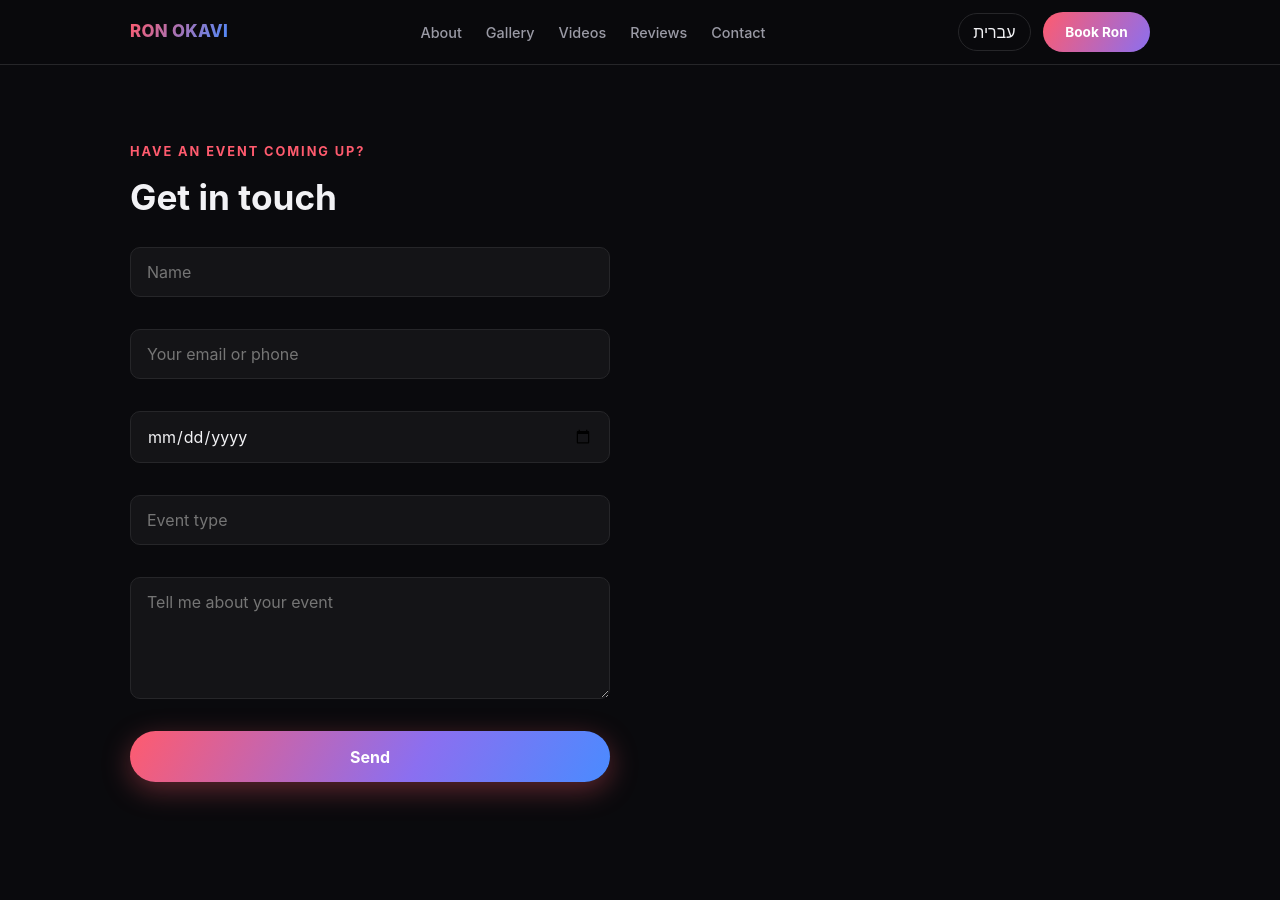
Test: Contact › rejects an invalid email or phone contact
The width and height of the screenshot is (1280, 900).
Step 1. Type "Ron" into the field with placeholder "Name" → point(370, 272), box top-left (130, 247), bottom-right (610, 297)
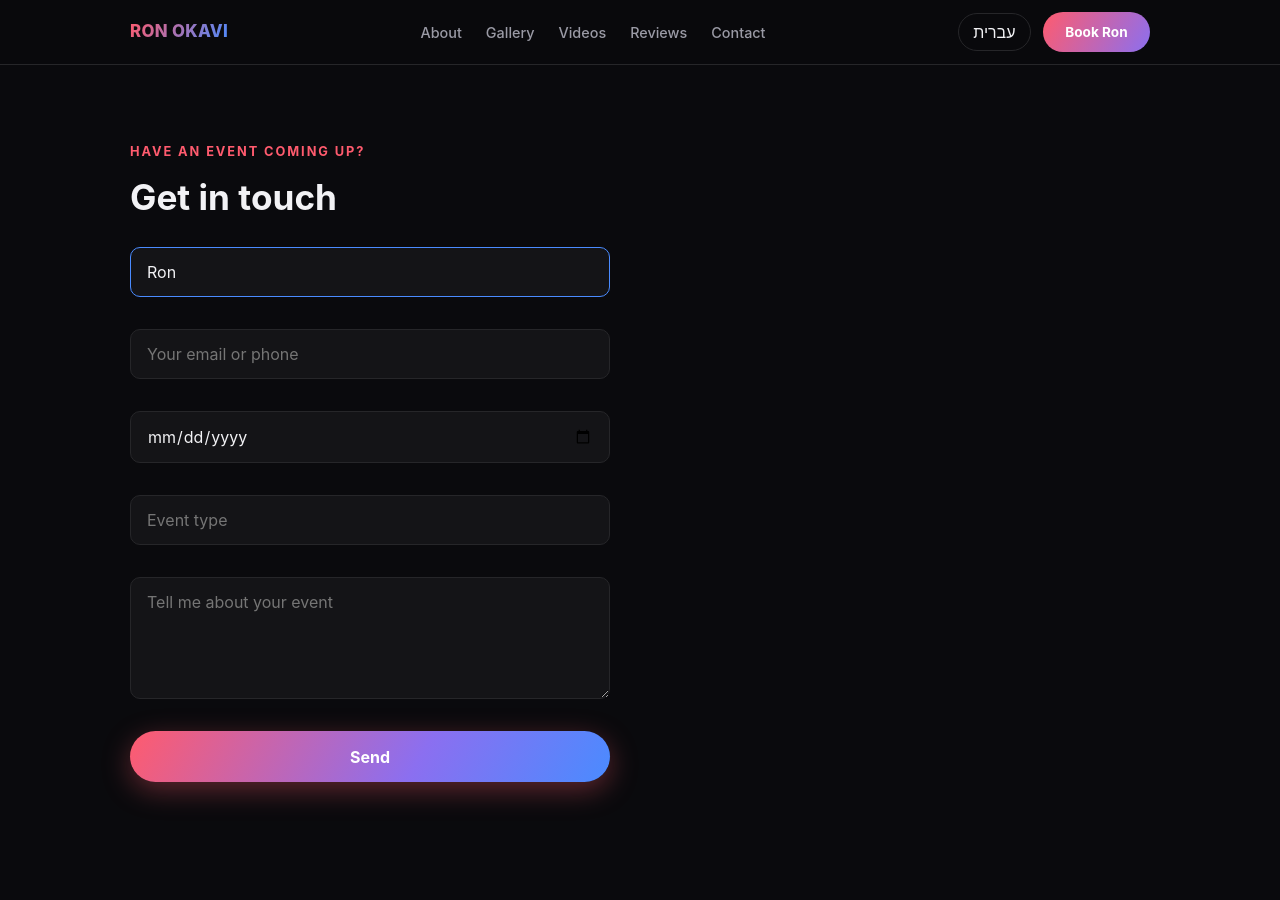
Step 2. Type "not-a-contact" into the field with placeholder "Your email or phone" → point(370, 354), box top-left (130, 329), bottom-right (610, 379)
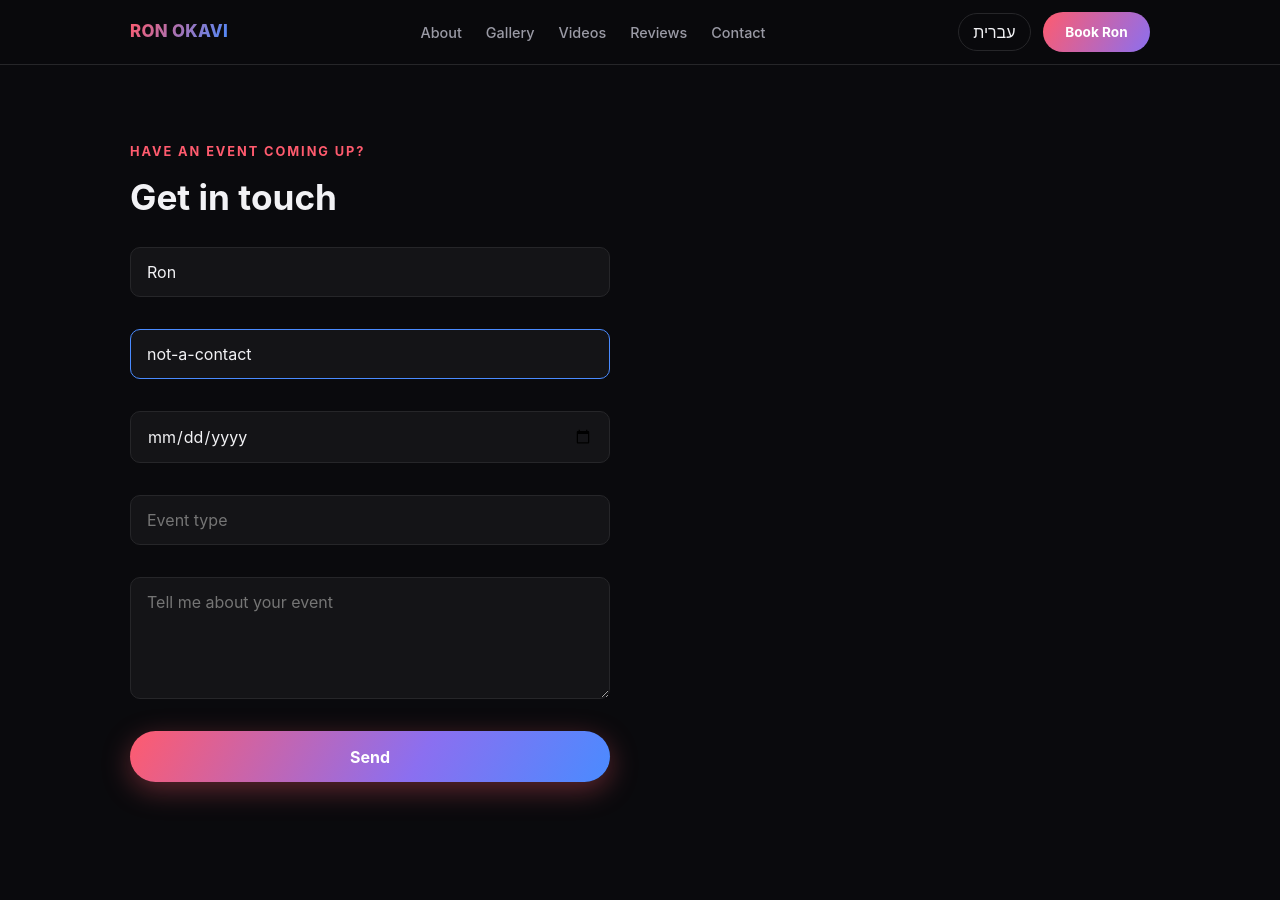
Step 3. Type "2026-10-01" into the date field named "Event date" → point(370, 437), box top-left (130, 411), bottom-right (610, 463)
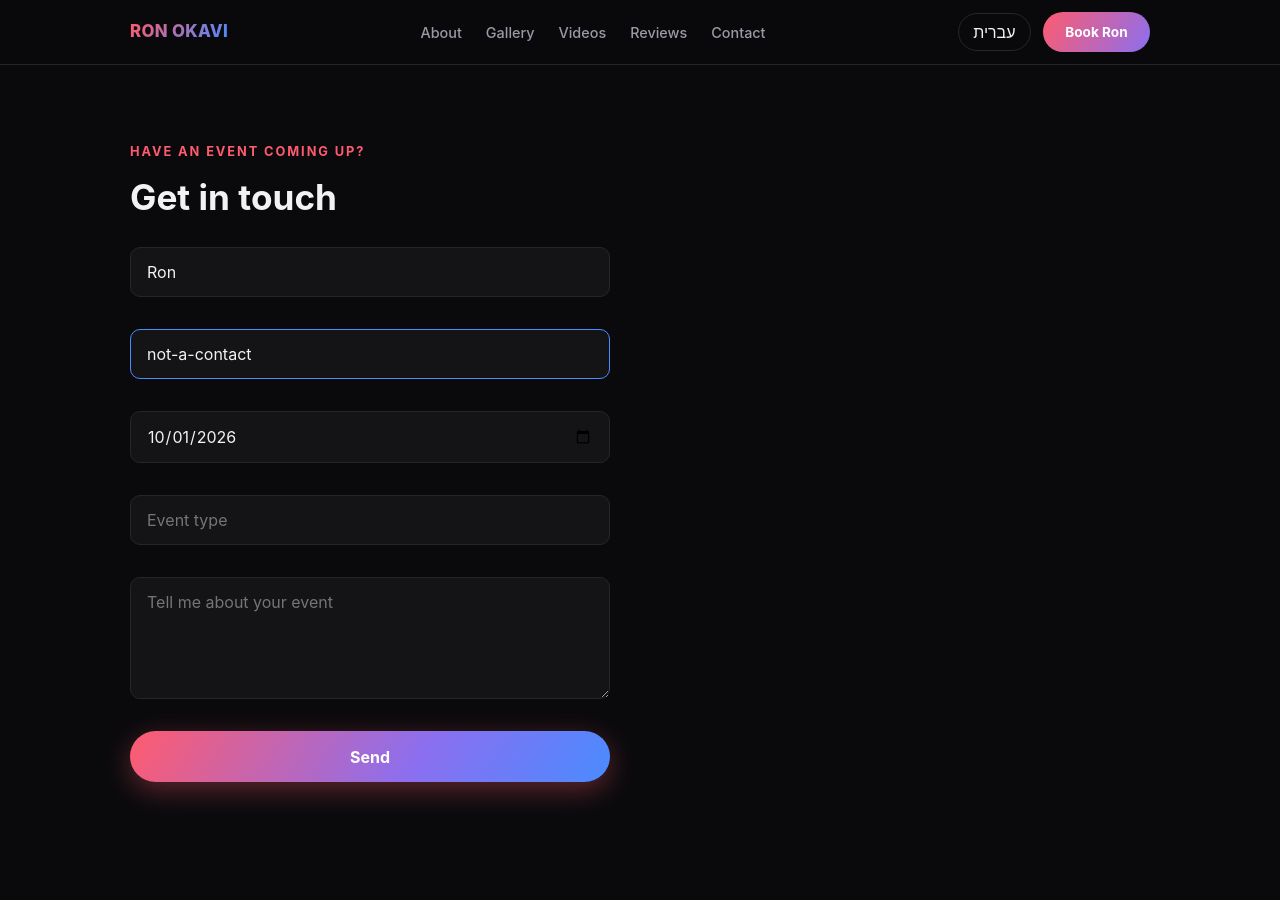
Step 4. Type "Birthday" into the field with placeholder "Event type" → point(370, 520), box top-left (130, 495), bottom-right (610, 545)
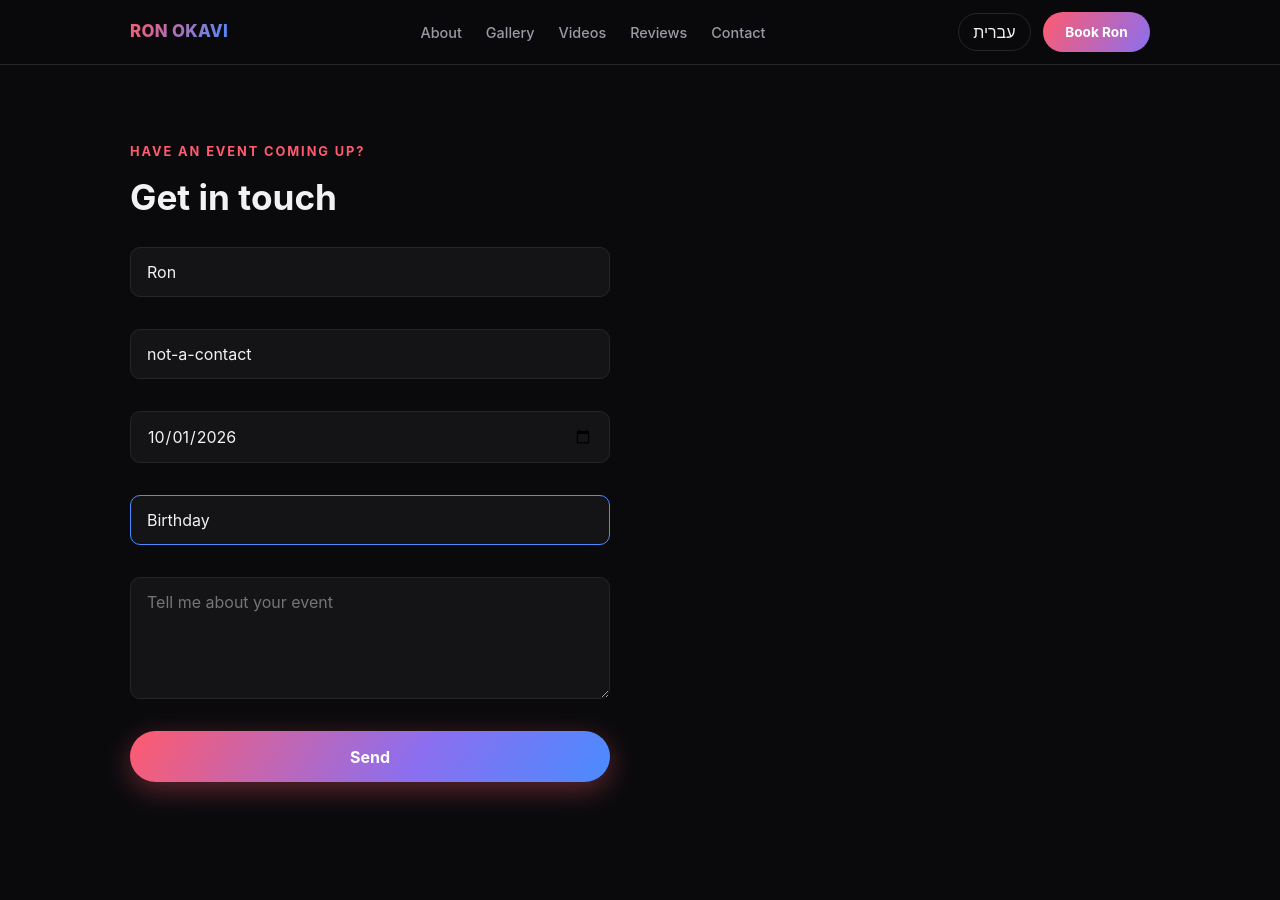
Step 5. Type "A dance party" into the text box with placeholder "Tell me about your event" → point(370, 638), box top-left (130, 577), bottom-right (610, 699)
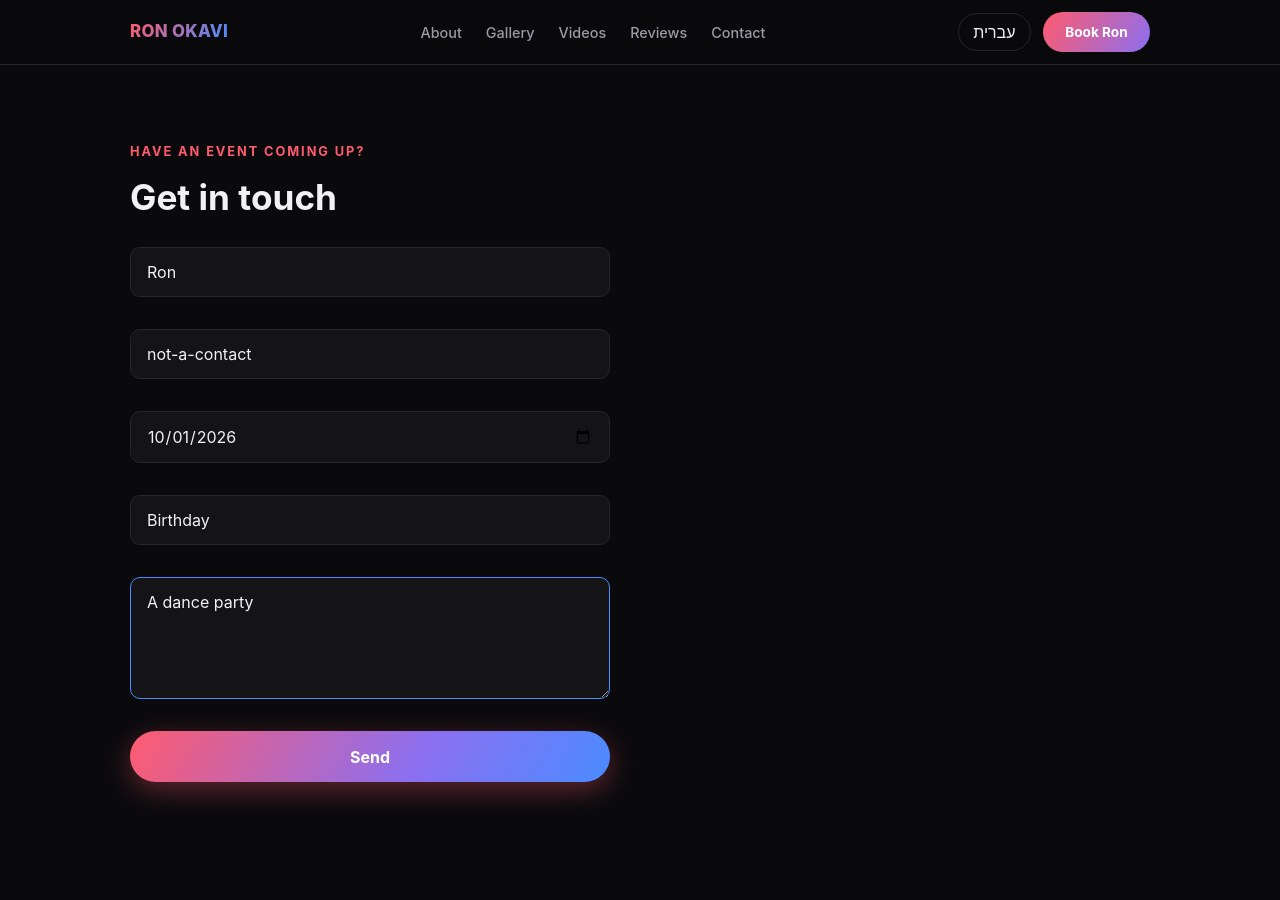
Step 6. Click the button "Send" → point(370, 757), box top-left (130, 731), bottom-right (610, 782)
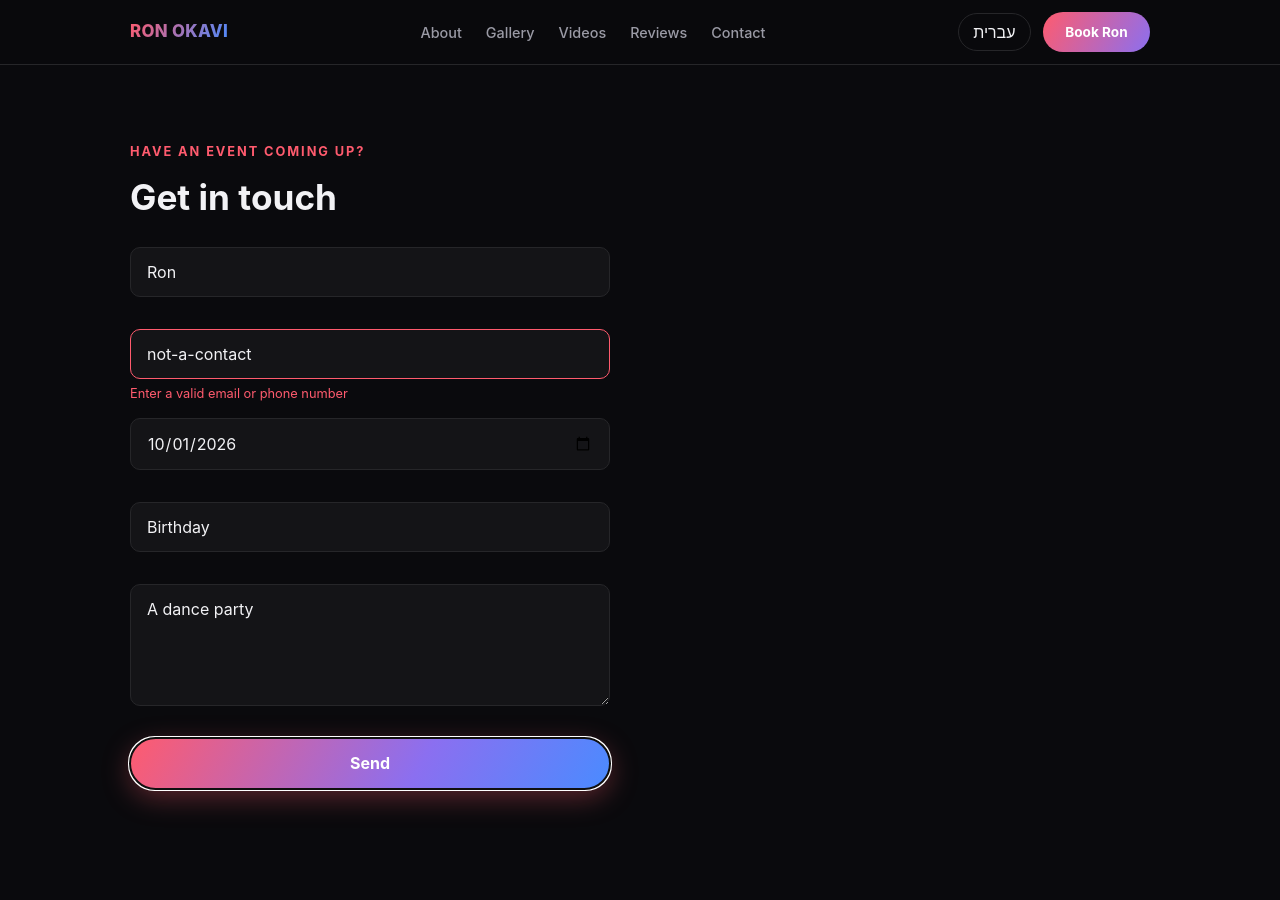
Result: the text "Enter a valid email or phone number" is shown at top-left (130, 386), bottom-right (348, 401)
